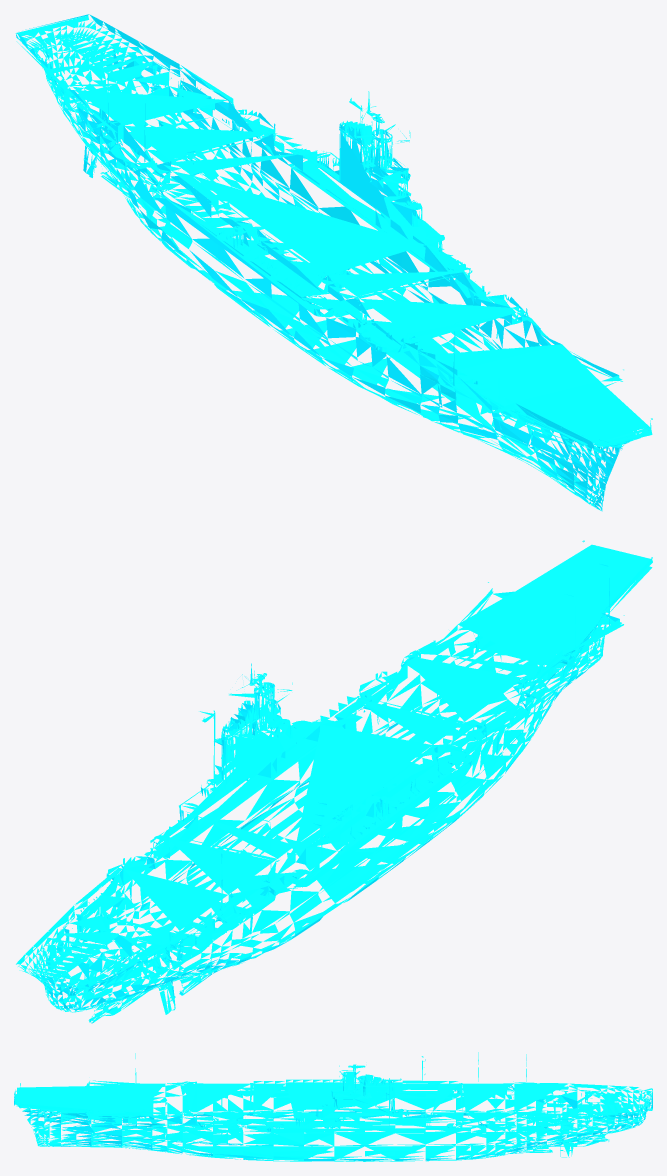
File: Admiral_Nakhimov.glb
3 renders of one model, top to bottom at view 1: azimuth 30°, elevation 25°; view 2: azimuth 150°, elevation 25°; view 3: azimuth 270°, elevation 25°, orthographic. The views are drawn at different scales.
Size of the model in its own units: 3.13 by 3.39 by 18.23.
